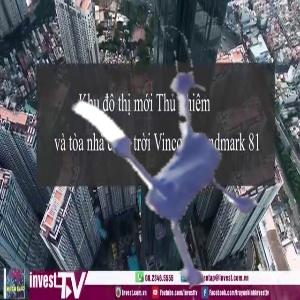drone: (33, 29, 297, 293)
